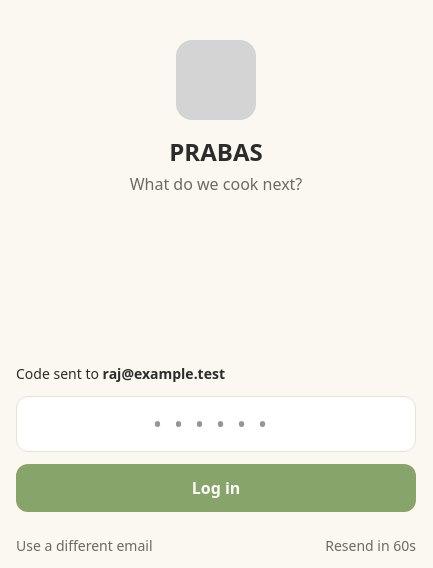
a wrong code shows a plain message and stays on the code step
Type "000000" into the field labelled "Code sent to raj@example.test" at (216, 424), box [16,396,416,452]
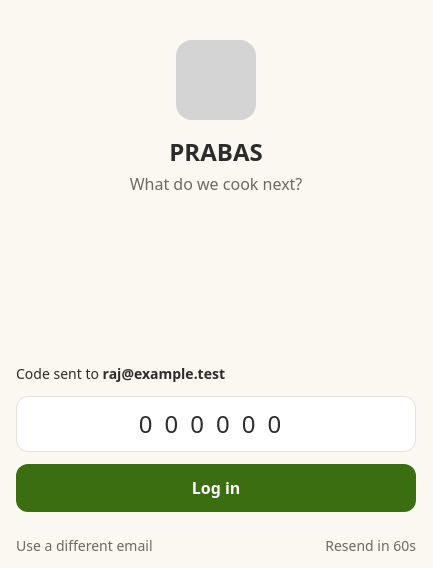
Click the button "Log in" at (216, 488), box [16,464,416,512]
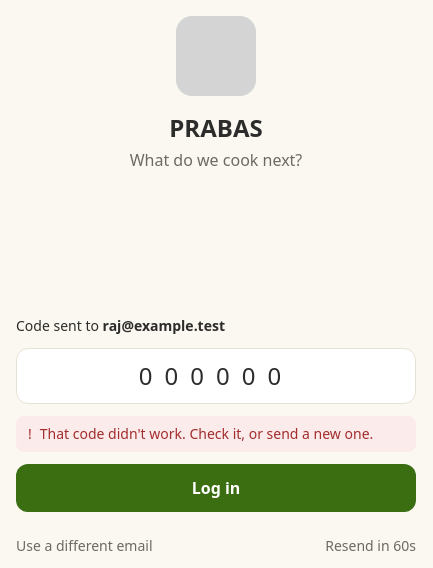
Expected: the message shows "That code didn't work", [40,424,373,443]
